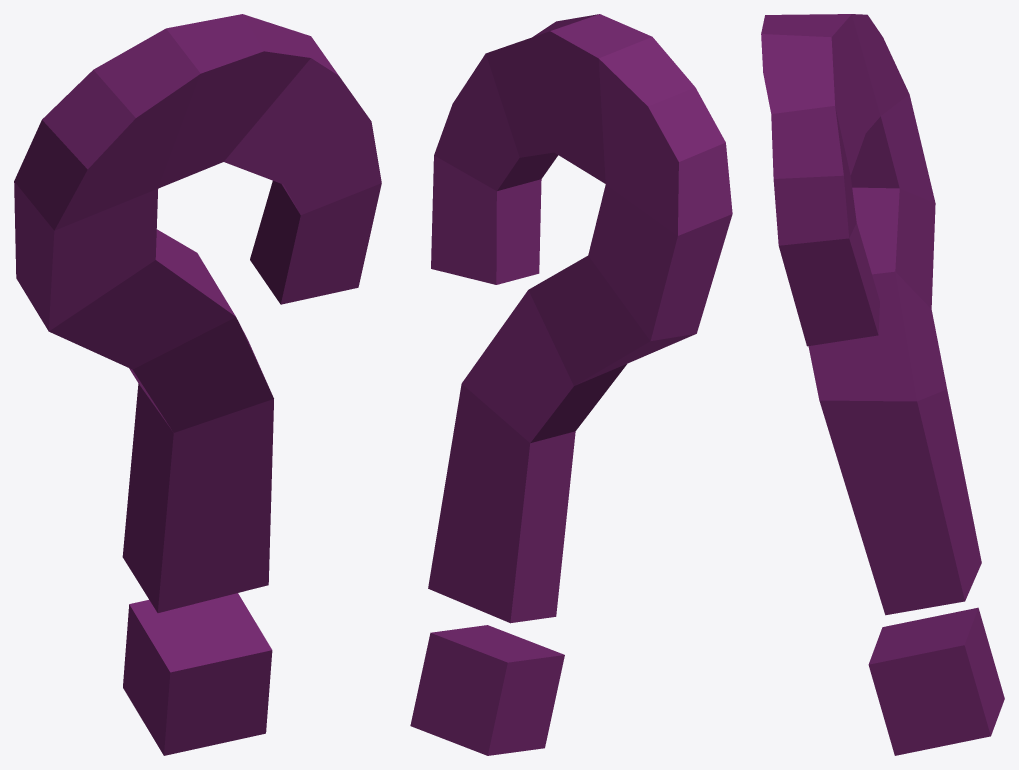
File: question.fbx
3 views of the same model, side by side, from view 1: azimuth 30°, elevation 25°; view 2: azimuth 150°, elevation 25°; view 3: azimuth 270°, elevation 25° (orthographic). The views are drawn at different scales.
Visible parts, largest first — view 1: mesh_1.001, mesh_2.001; view 2: mesh_1.001, mesh_2.001; view 3: mesh_1.001, mesh_2.001.
Boxes of the visible parts, box(x1,y1,x2,y2) form: mesh_1.001: box(14, 14, 381, 612); mesh_2.001: box(123, 593, 272, 755); mesh_1.001: box(428, 14, 732, 623); mesh_2.001: box(410, 625, 564, 755); mesh_1.001: box(761, 14, 981, 615); mesh_2.001: box(868, 607, 1004, 755).
Size of the model in its own units: 36.82 by 84.8 by 26.86.
